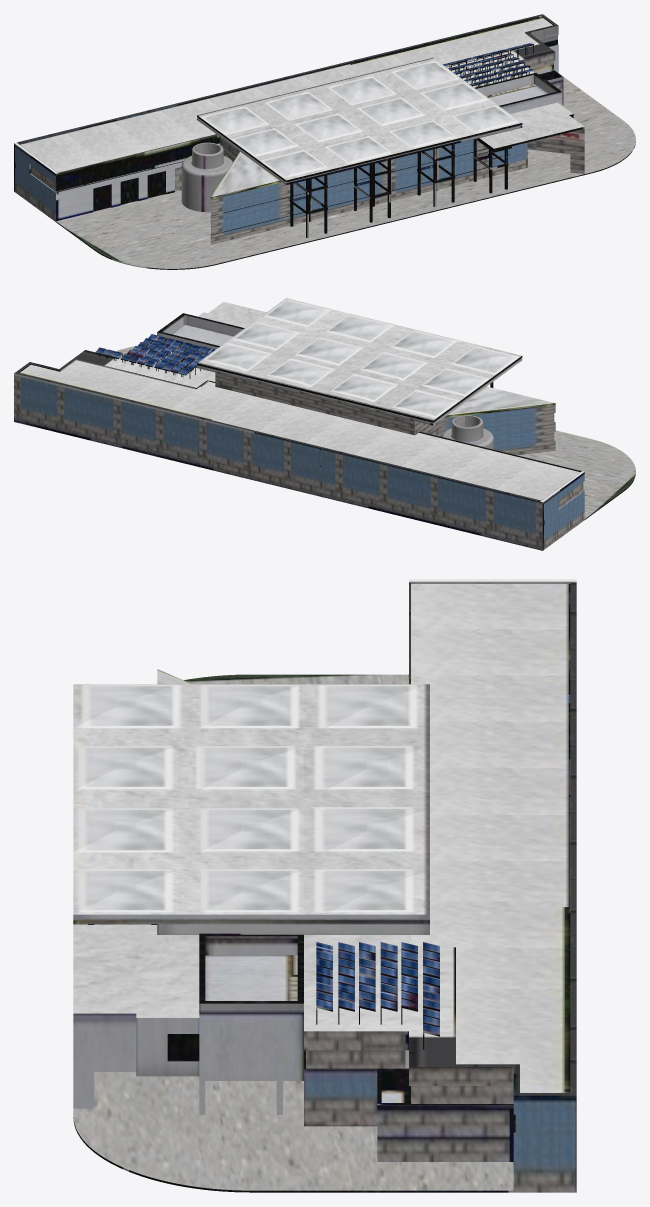
Rendered from airport.dae.
The picture shows the model from 3 angles, top to bottom: view 1: azimuth 30°, elevation 25°; view 2: azimuth 150°, elevation 25°; view 3: azimuth 270°, elevation 25°; orthographic projection. The views are drawn at different scales.
Visible parts, largest first — view 1: airportF; view 2: airportF; view 3: airportF.
Part boxes in pixels (x1,y1,x2,y2): airportF: [14, 14, 635, 269]; airportF: [14, 298, 635, 550]; airportF: [73, 579, 576, 1192].
Bounding box in the file's own units: 582 × 240 × 73.
Materials: 1 (1 with a texture image).
